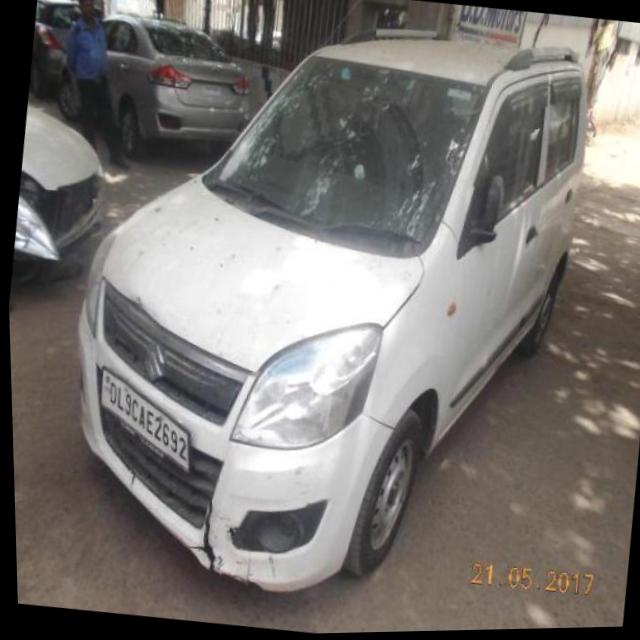Car-Damage: (181, 495, 228, 574), (286, 465, 321, 512), (236, 552, 254, 587), (219, 522, 236, 546), (262, 556, 277, 583), (128, 295, 147, 311), (126, 472, 134, 491)
